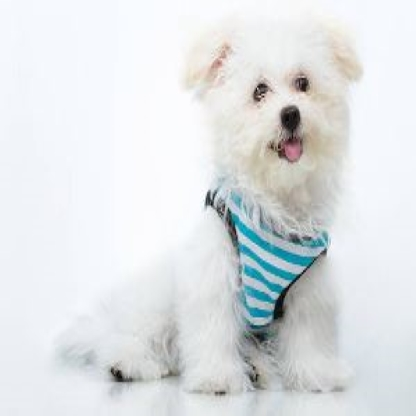maltese: (51, 8, 369, 395)
